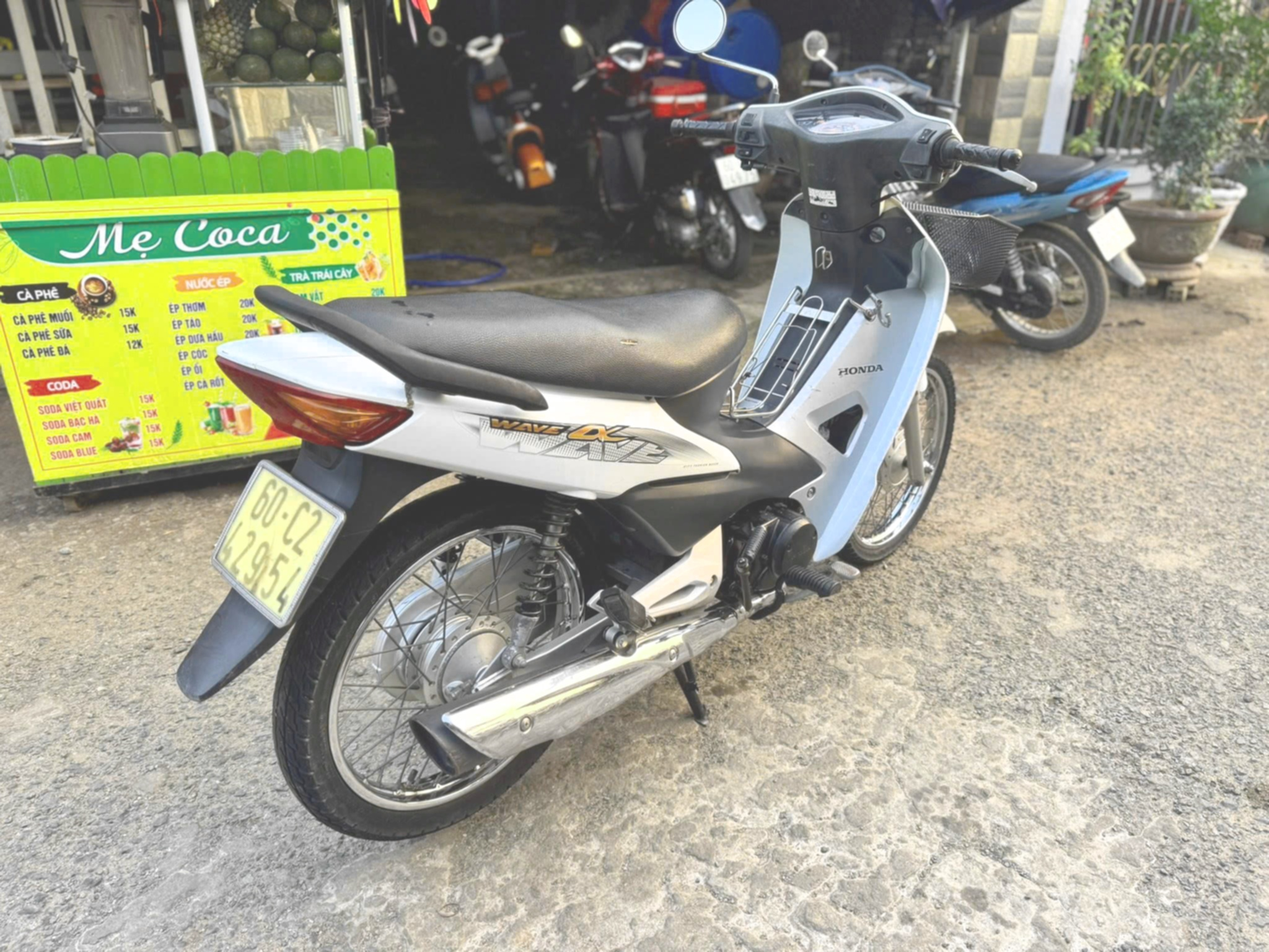Bien-so: (159, 407, 301, 584), (1076, 218, 1137, 284)
